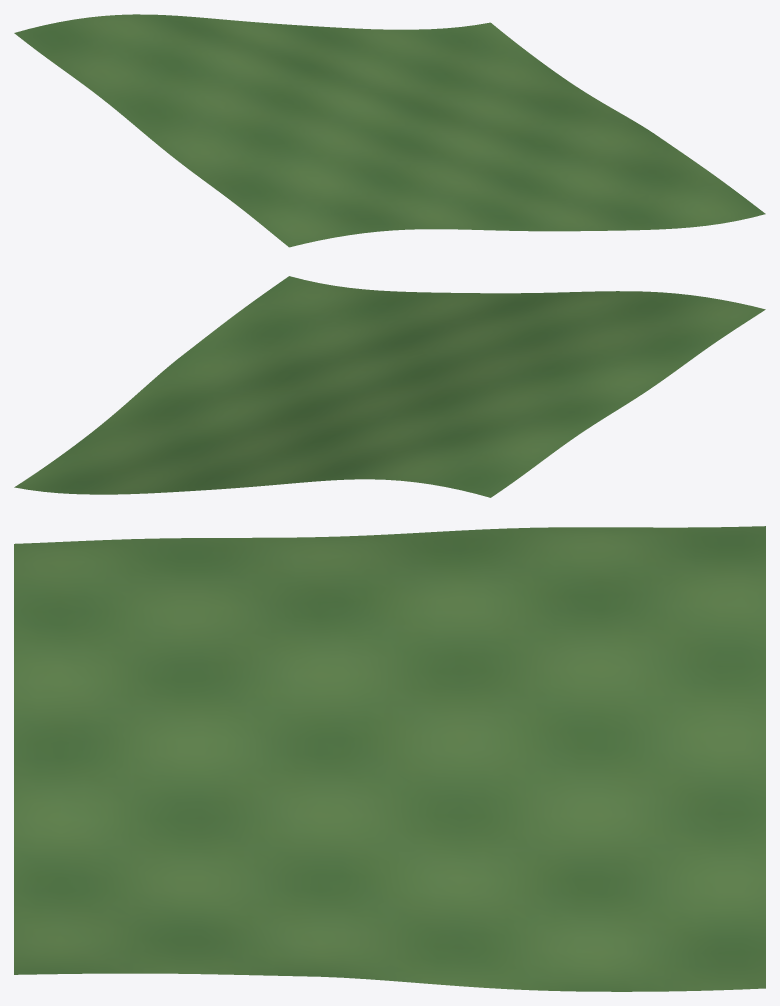
The model's file is chunk_0_1.glb.
3 renders of one model, top to bottom at view 1: azimuth 30°, elevation 25°; view 2: azimuth 150°, elevation 25°; view 3: azimuth 270°, elevation 25°, orthographic. The views are drawn at different scales.
Size of the model in its own units: 512 by 112 by 512.
